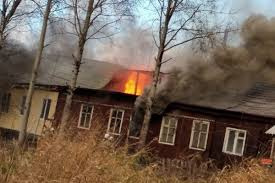fire: (110, 60, 169, 105)
